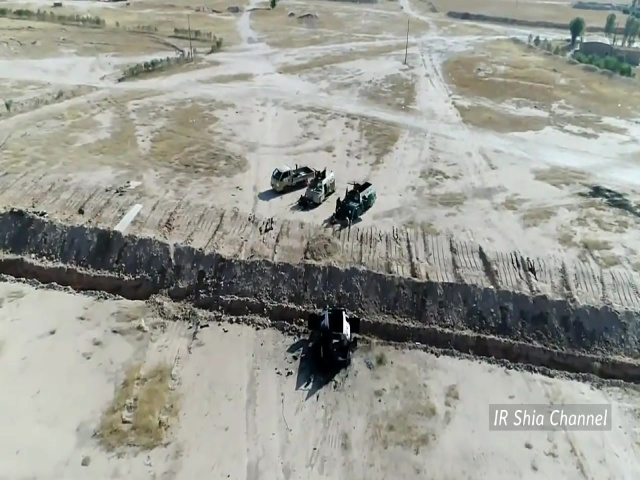vehicle: (333, 180, 375, 218), (268, 162, 318, 190), (302, 170, 336, 206)
